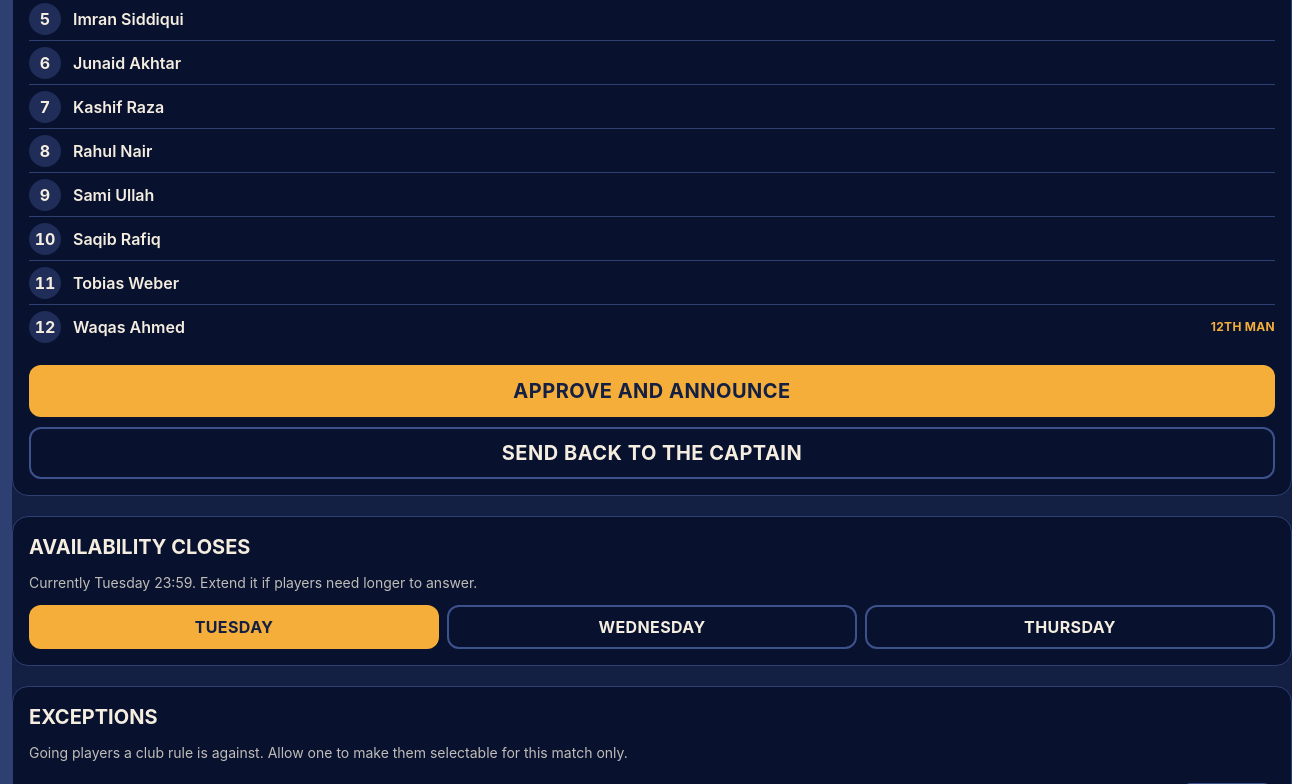
Test: BoardSquadView › approves and announces the squad, then reloads it
The width and height of the screenshot is (1292, 784).
(page scrolled)
Click the button "Approve and announce" at (652,391), box [29,365,1275,417]
(page scrolled)
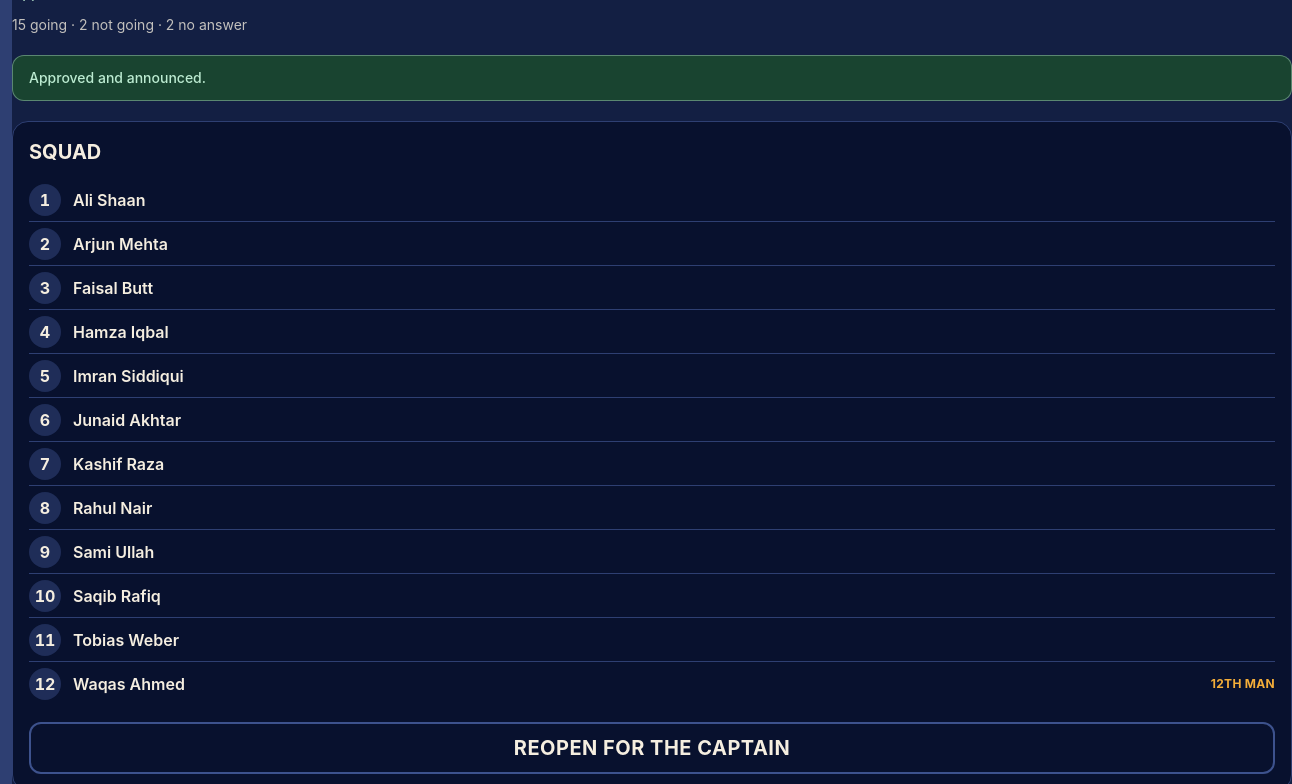
Now the message reads "Approved and announced.", box [29,69,206,86]
Now the button "Reopen for the captain" is shown, box [29,722,1275,774]
Now the heading "Availability closes" is gone
